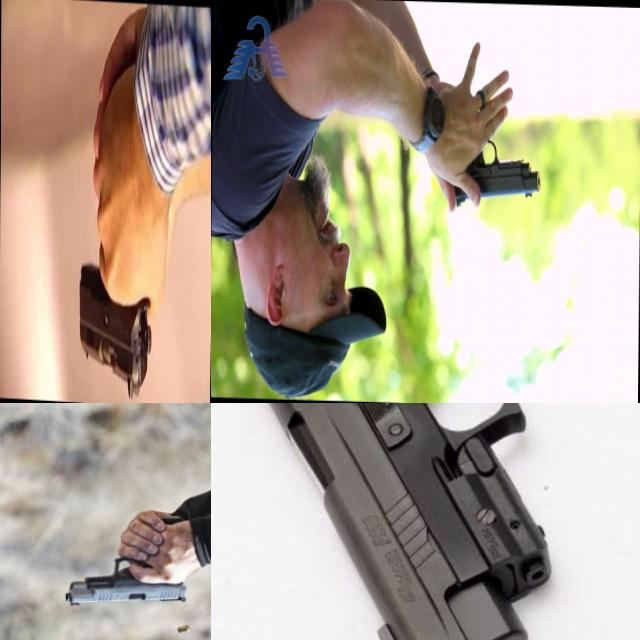handgun: (211, 403, 640, 640), (77, 222, 153, 400), (59, 508, 189, 610), (448, 131, 544, 212)
